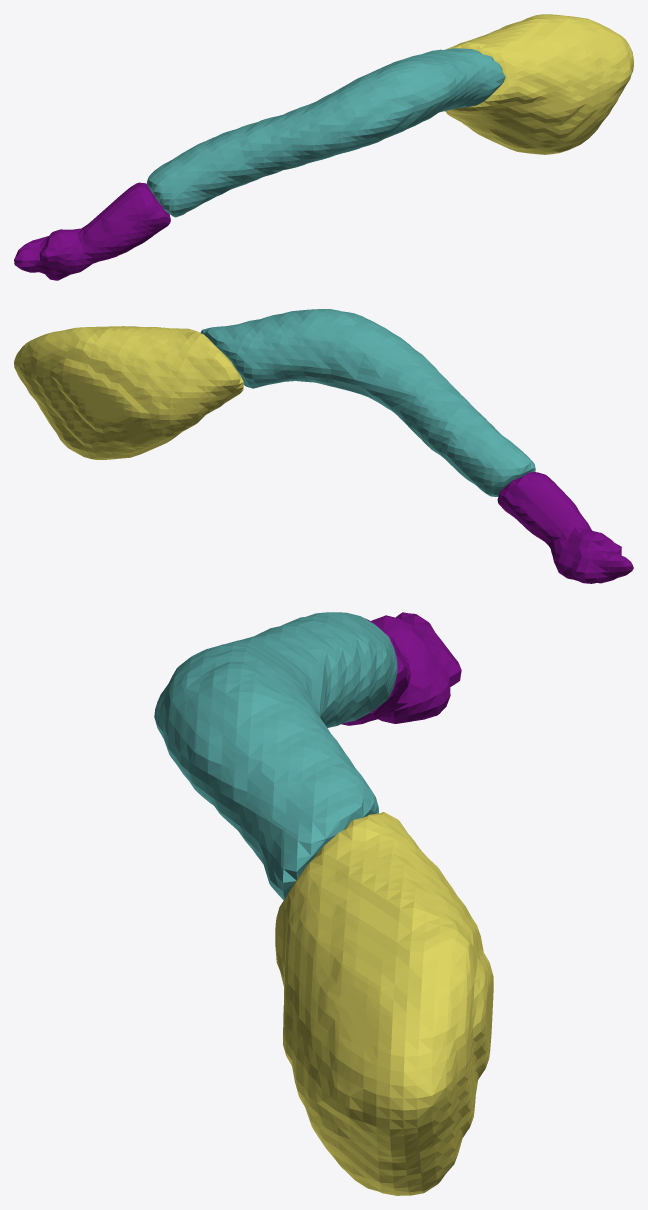
Rendered from fallopian-tube-right-millitome.glb.
3 renders of one model, top to bottom at view 1: azimuth 30°, elevation 25°; view 2: azimuth 150°, elevation 25°; view 3: azimuth 270°, elevation 25°, orthographic. The views are drawn at different scales.
Visible parts, largest first — view 1: 4-5-6, 1-2-3, 7-8-9-10-11-12; view 2: 1-2-3, 4-5-6, 7-8-9-10-11-12; view 3: 1-2-3, 4-5-6, 7-8-9-10-11-12.
Boxes of the visible parts, <box> form: 4-5-6: <box>147,48,505,217</box>; 1-2-3: <box>445,14,633,154</box>; 7-8-9-10-11-12: <box>14,182,170,280</box>; 1-2-3: <box>14,326,243,459</box>; 4-5-6: <box>200,309,535,496</box>; 7-8-9-10-11-12: <box>497,472,633,583</box>; 1-2-3: <box>275,812,493,1195</box>; 4-5-6: <box>154,612,397,900</box>; 7-8-9-10-11-12: <box>341,612,461,725</box>.
Bounding box in the file's own units: 55.71 × 14.4 × 13.3.
